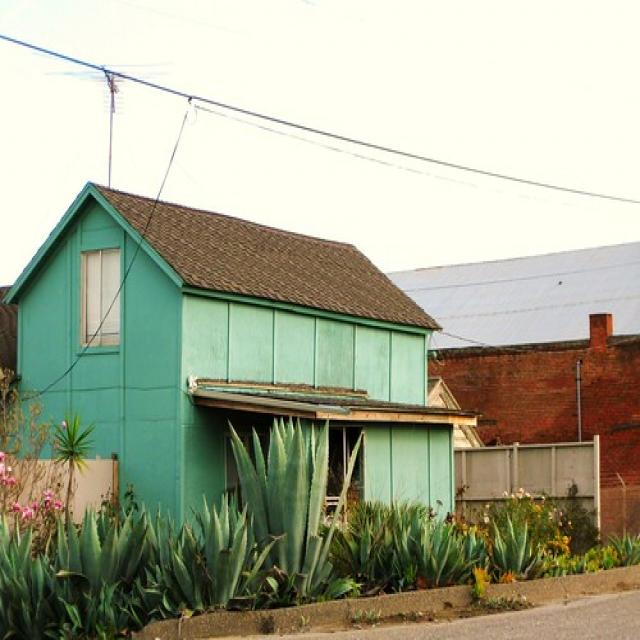Normal_building: (1, 178, 480, 602)
